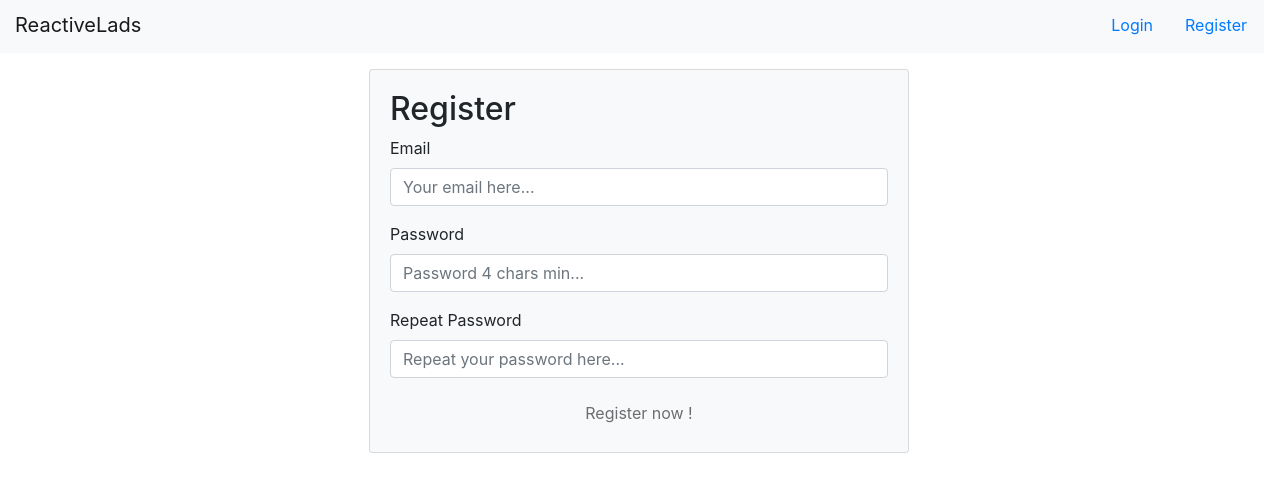
Test: <RegisterForm/> e2e › Fields validation › Repeat Password field validation › should validate empty password field on blur
Focus the password field named "repeatPassword" at (639, 359), box [390, 340, 888, 378]
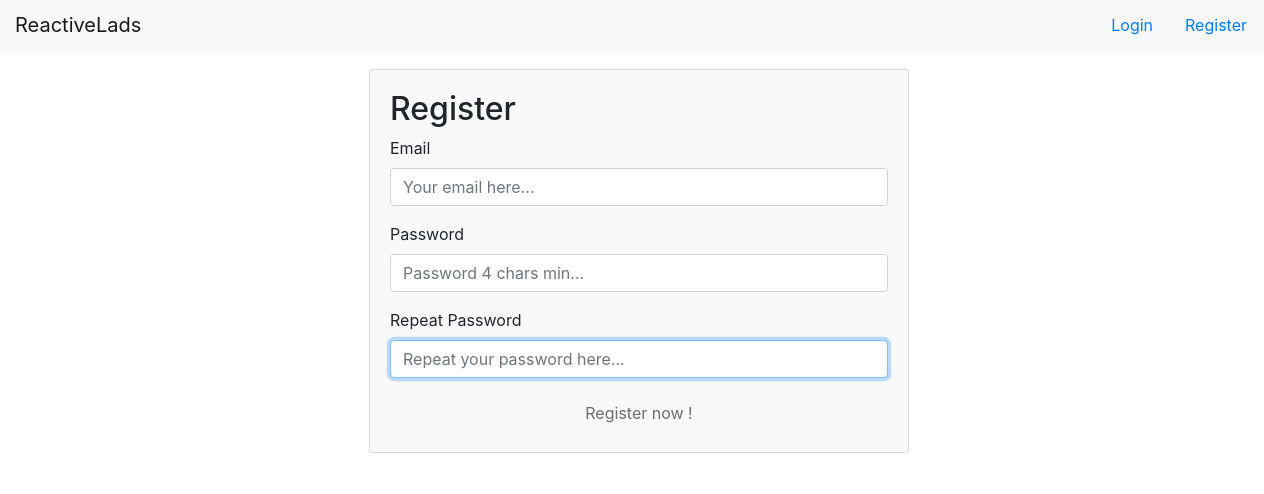
Leave the password field named "repeatPassword", box [390, 340, 888, 378]
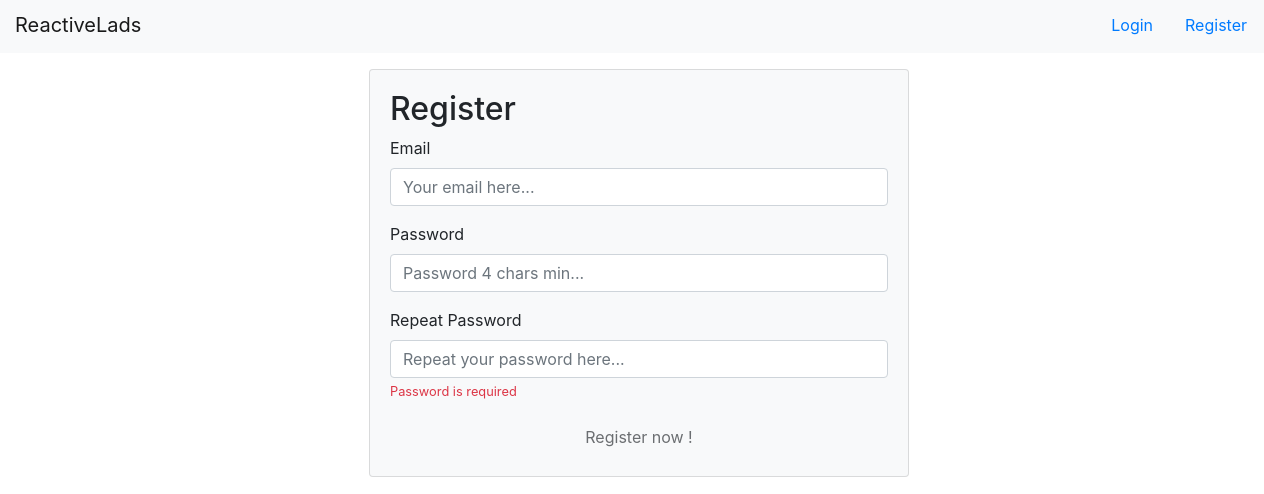
Result: the text "Password is required" is shown at [390, 384, 517, 399]
